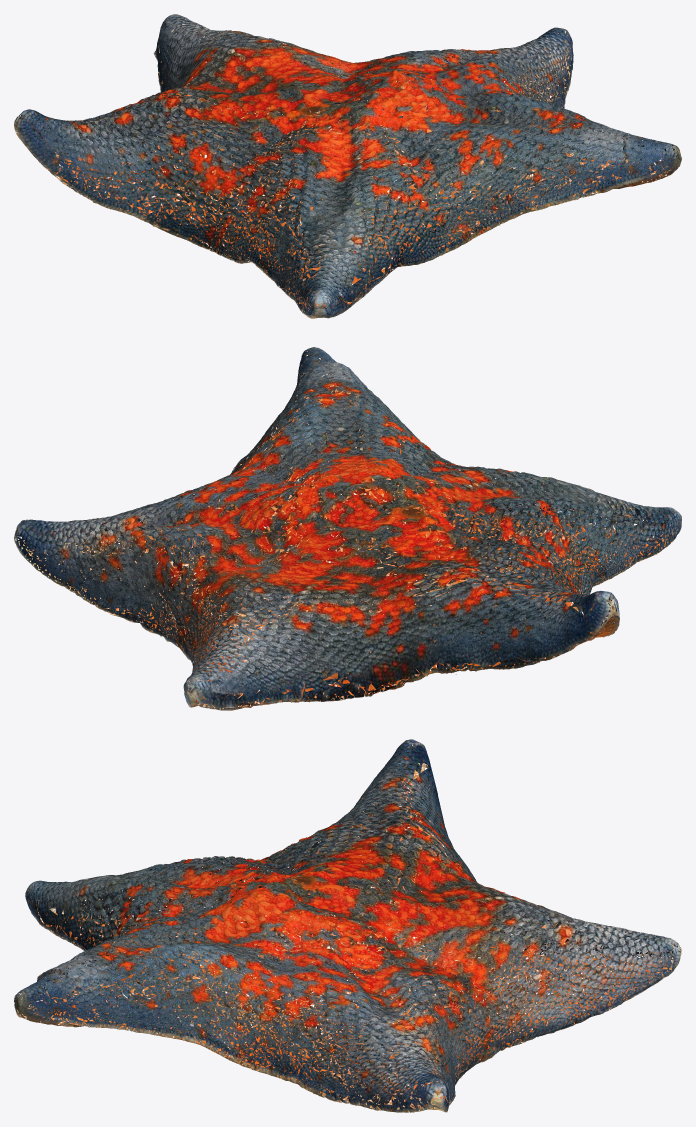
Rendered from seastar-touch.glb.
The picture shows the model from 3 angles, top to bottom: view 1: azimuth 30°, elevation 25°; view 2: azimuth 150°, elevation 25°; view 3: azimuth 270°, elevation 25°; orthographic projection. The views are drawn at different scales.
Visible parts, largest first — view 1: Object_6, Object_13; view 2: Object_6, Object_13; view 3: Object_6, Object_13.
Part boxes in pixels (x1=…): Object_6: x1=16, y1=14, x2=681, y2=318; Object_13: x1=14, y1=15, x2=680, y2=318; Object_6: x1=14, y1=347, x2=681, y2=709; Object_13: x1=14, y1=347, x2=681, y2=710; Object_6: x1=14, y1=746, x2=681, y2=1112; Object_13: x1=14, y1=739, x2=681, y2=1112.
Size of the model in its own units: 0.9997 by 0.2149 by 0.9699.
Materials: 2 (2 with a texture image).
